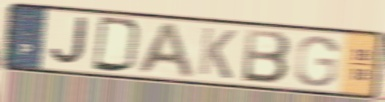A: (133, 21, 197, 81)
B: (240, 27, 293, 87)
D: (90, 14, 144, 75)
G: (292, 34, 341, 89)
J: (48, 15, 89, 68)
K: (197, 25, 239, 82)
